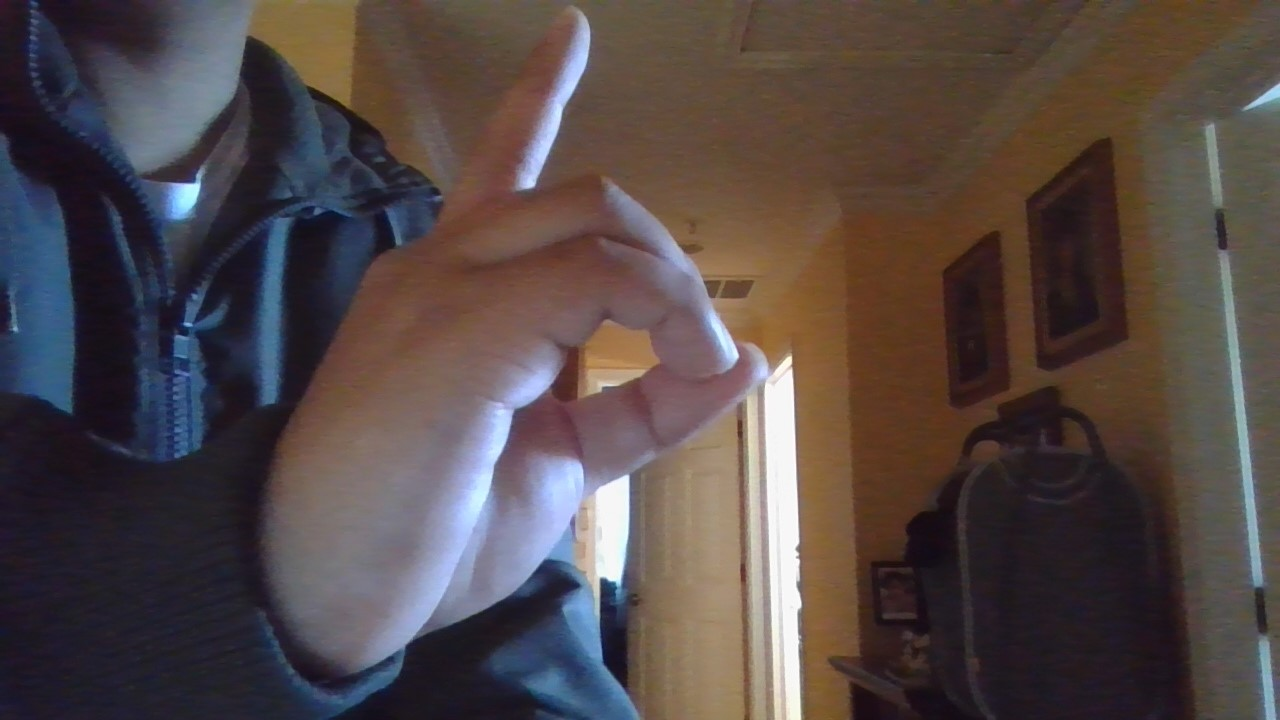d: (203, 1, 808, 694)
